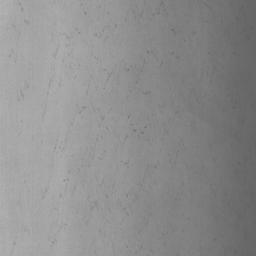Silk spot: (152, 1, 166, 16)
